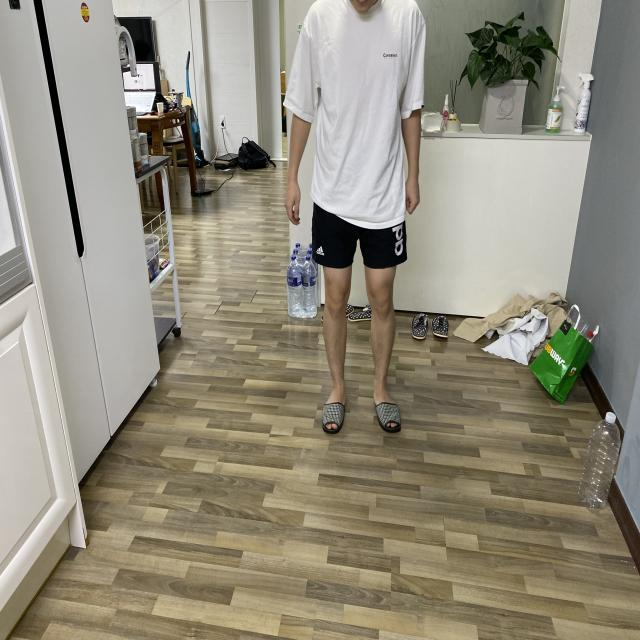no-boots: (366, 376, 408, 440), (316, 382, 355, 442)
